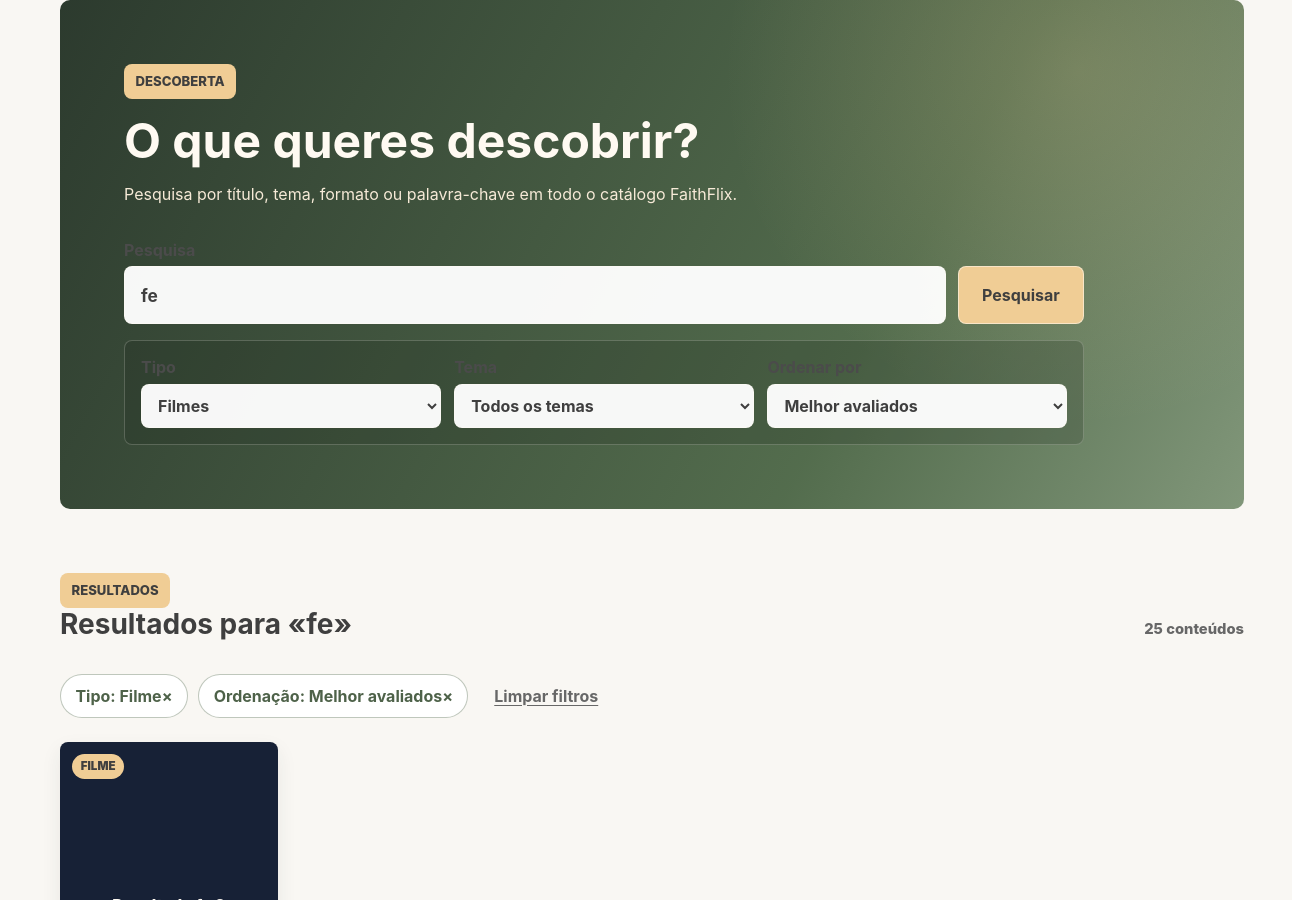
Scenario: SearchPage › remove filtros ativos preservando a query e regressando à página 1
Step 1. Click the button with aria-label "Remover filtro Tipo: Filme" → (124, 696), box [60,674,188,718]
(page scrolled)
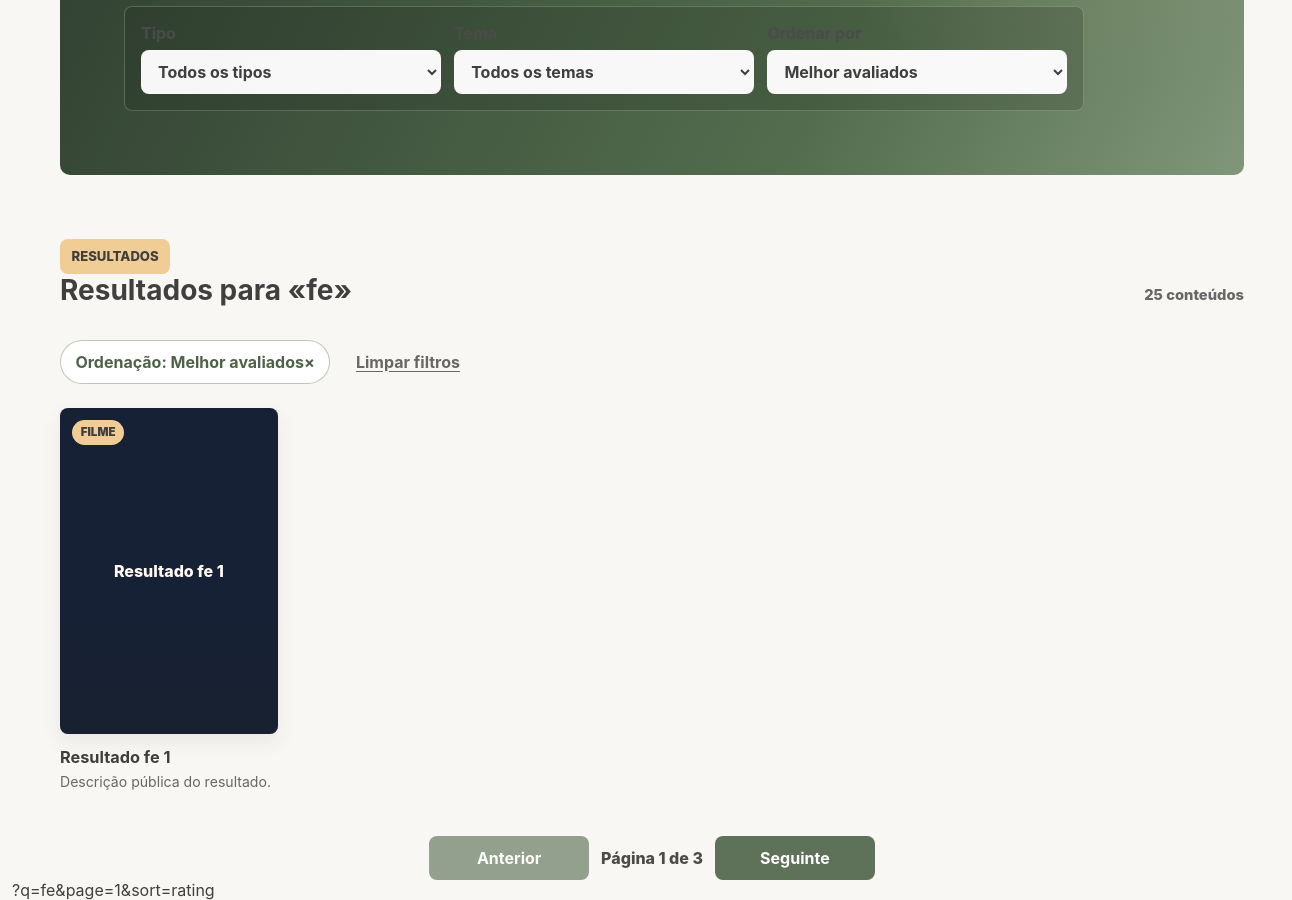
Check: the text with test id "search-location" shows "q=fe", box [12,880,215,899]
Check: the text with test id "search-location" shows "page=1", box [12,880,215,899]
Check: the text with test id "search-location" no longer shows "type=movie", box [12,880,215,899]
